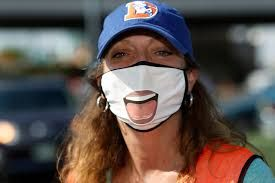with-mask: (96, 29, 199, 134)
